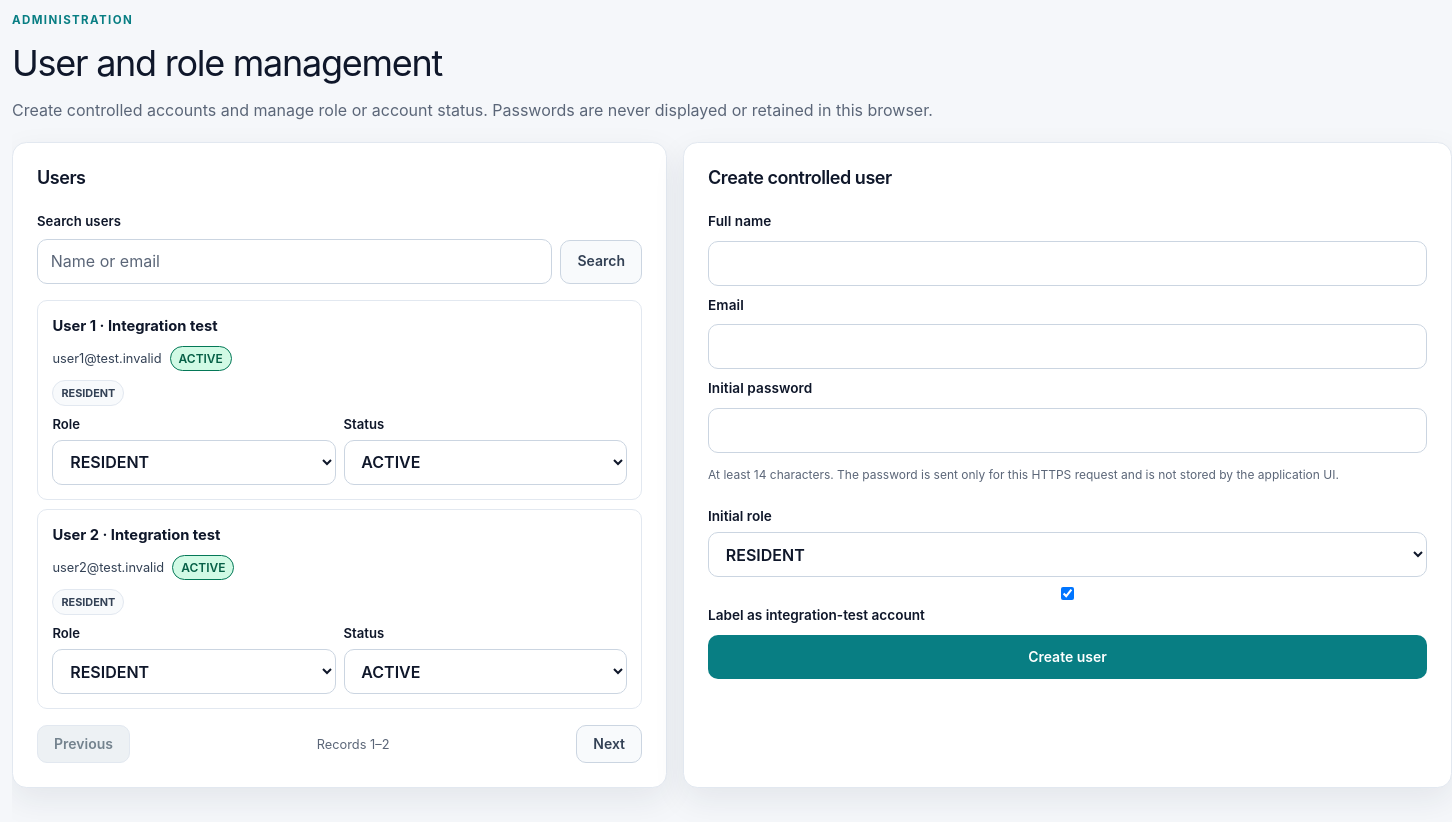
Test: UsersPage › resets to the first page when a search is applied
The width and height of the screenshot is (1452, 822).
Expected: the dropdown named "Role for User 1" is shown, [52, 440, 336, 485]
Click the button "Next": {"x": 609, "y": 744} [576, 726, 642, 764]
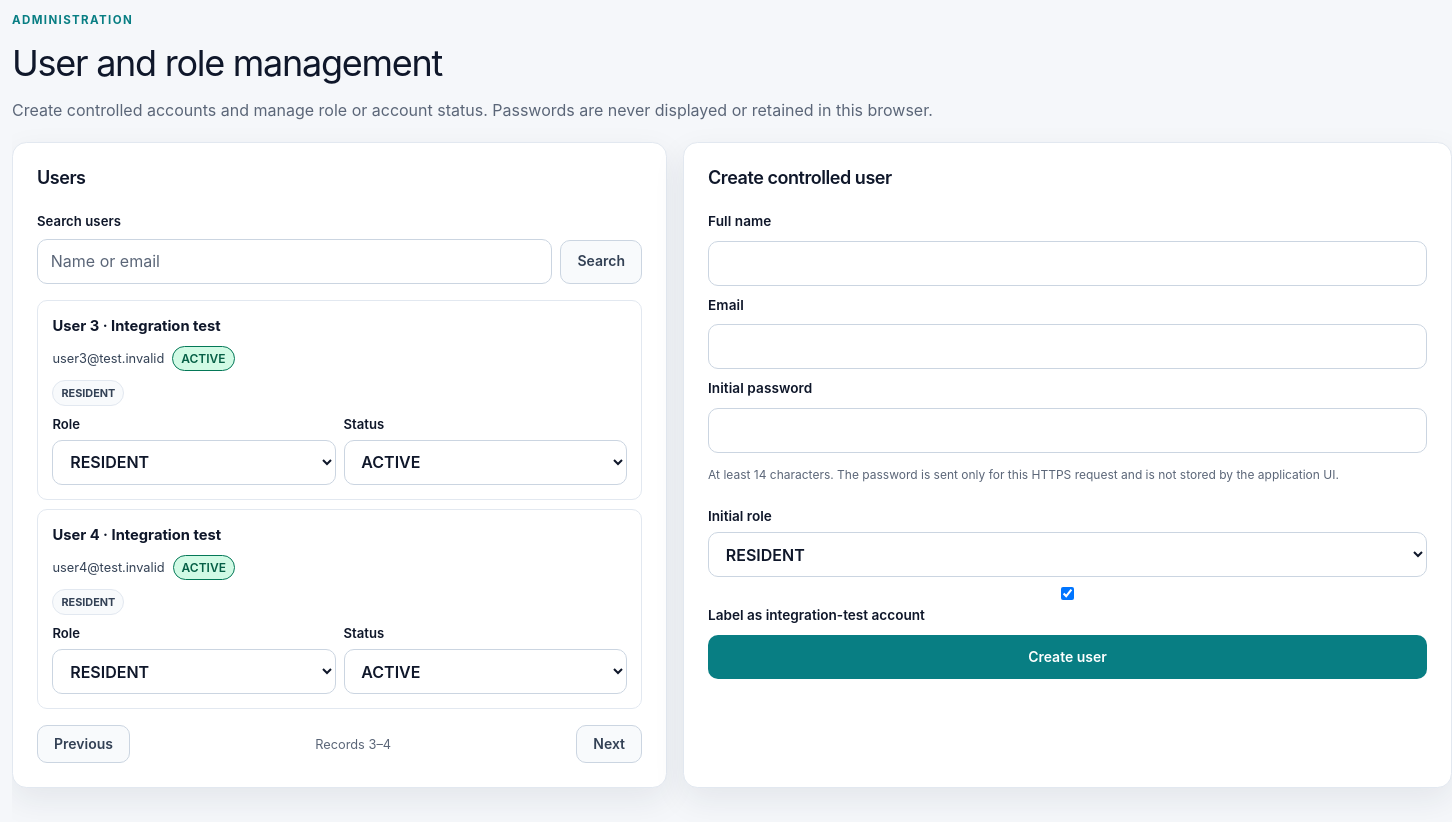
In the field labelled "Search users": {"x": 295, "y": 261} [37, 239, 552, 284], type "needle"
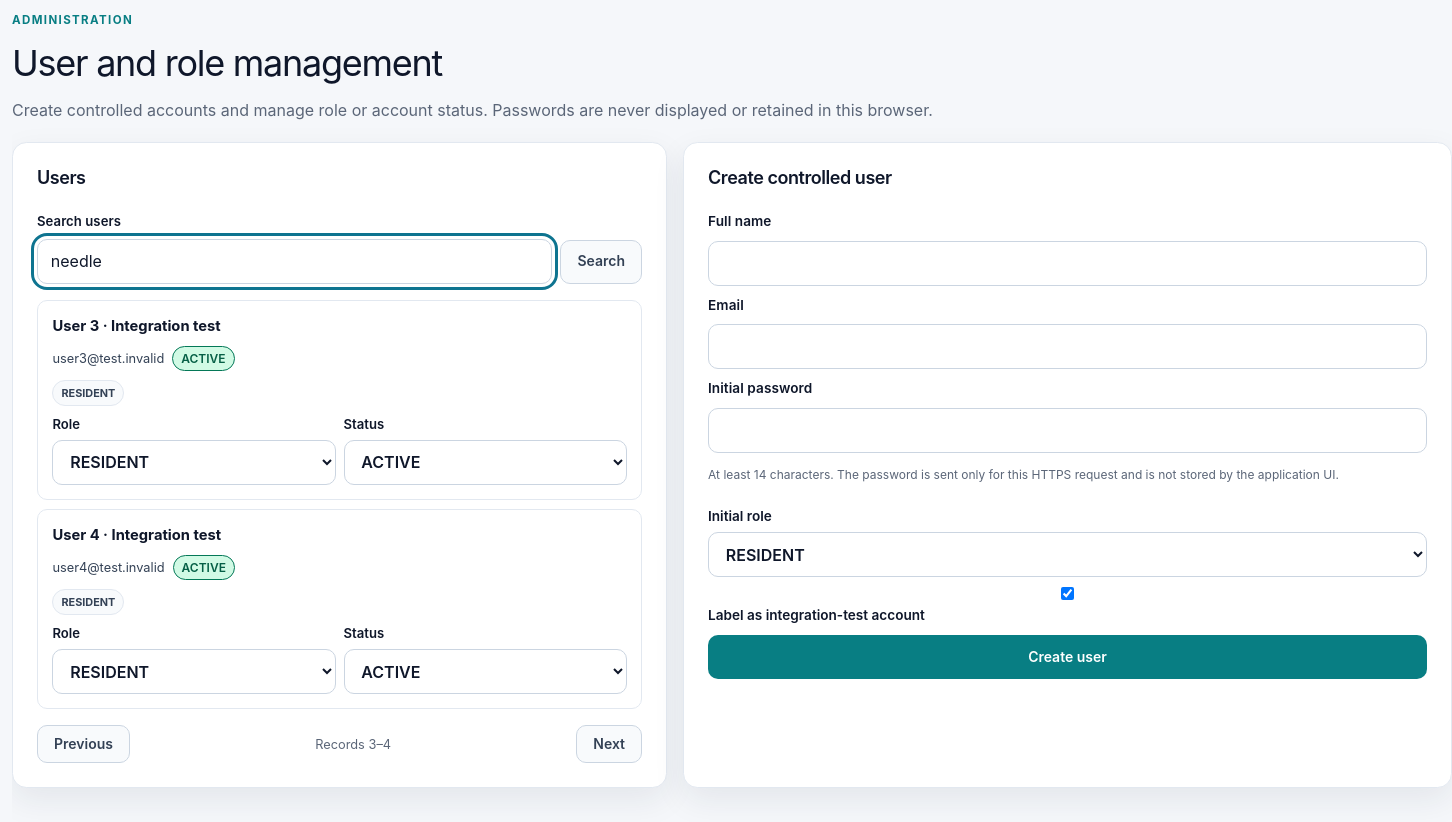
Click the button "Search": {"x": 601, "y": 262} [560, 240, 642, 284]
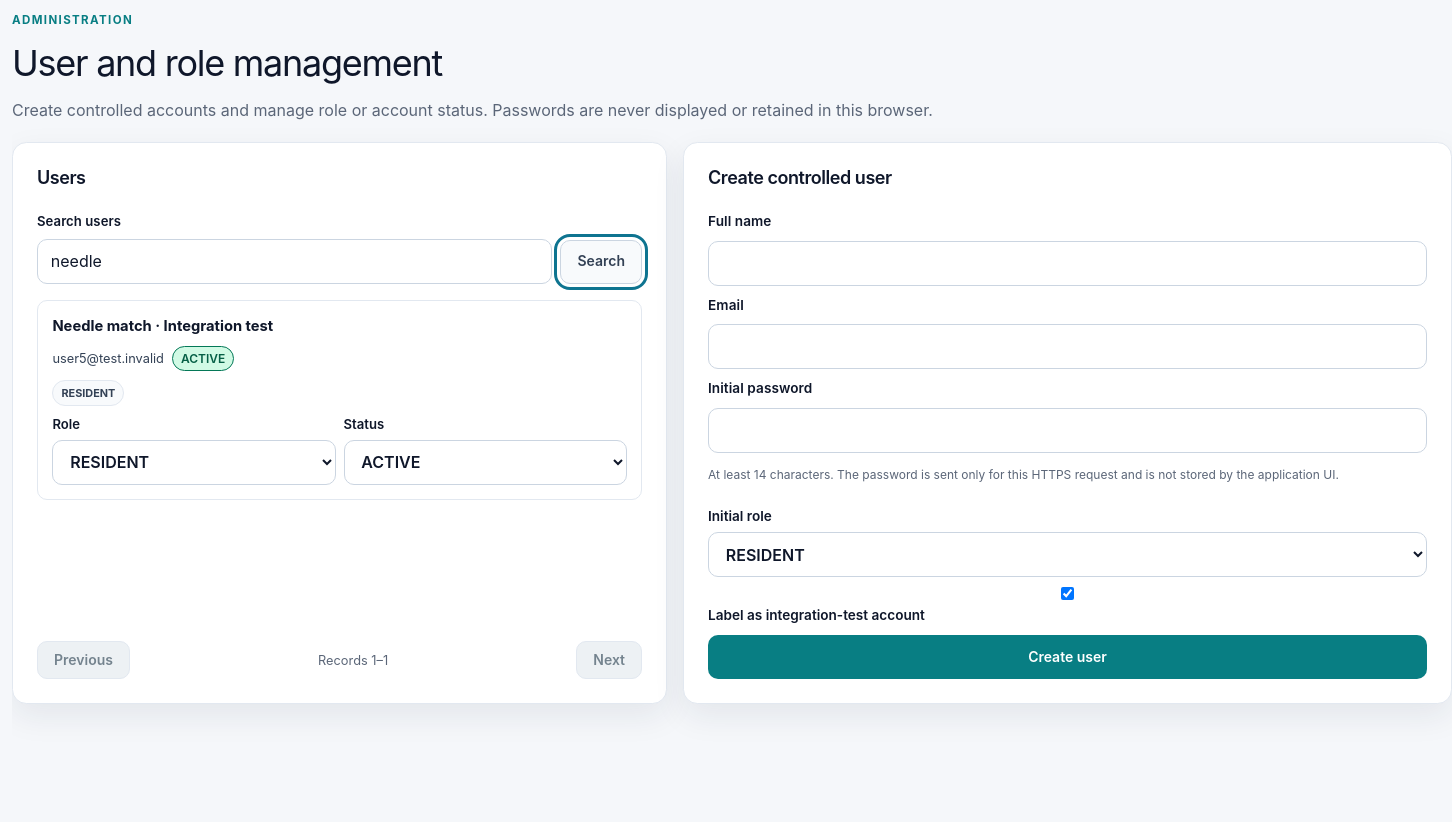
Result: the text "Records 1–1" is shown at [318, 650, 388, 670]
Result: the button "Previous" is disabled at [37, 641, 130, 679]
